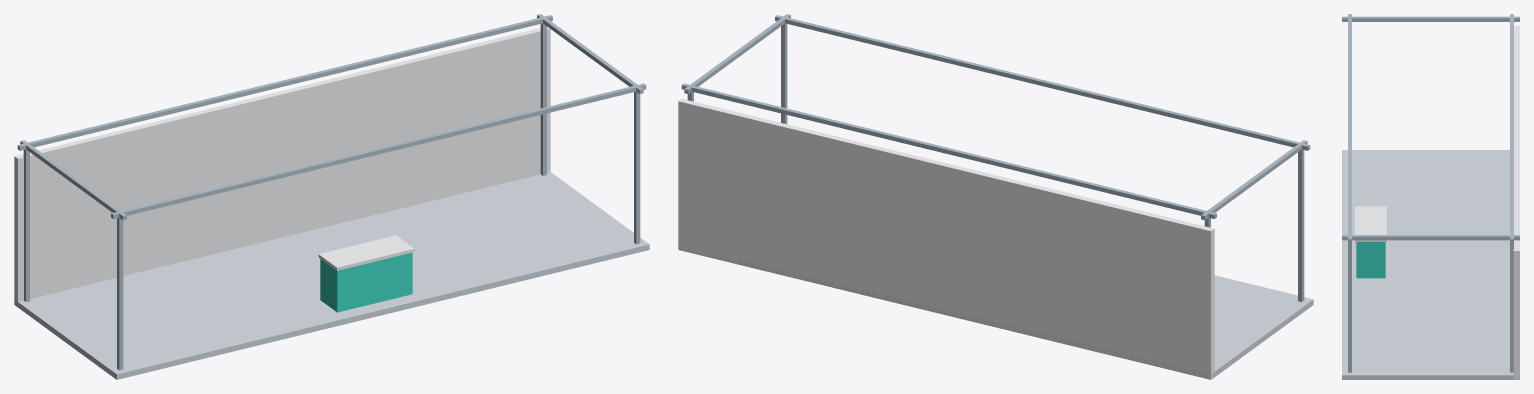
The picture shows the model from 3 angles, left to right: view 1: azimuth 30°, elevation 25°; view 2: azimuth 150°, elevation 25°; view 3: azimuth 270°, elevation 25°; orthographic projection. The views are drawn at different scales.
Parts seen in each view (by area): view 1: Exhibition Booth Concept; view 2: Exhibition Booth Concept; view 3: Exhibition Booth Concept.
Boxes of the visible parts, x1,y1,x2,y2 form: Exhibition Booth Concept: (14,14,649,379); Exhibition Booth Concept: (678,14,1313,379); Exhibition Booth Concept: (1342,14,1519,379).
Bounding box in the file's own units: 12 × 3.49 × 4.
